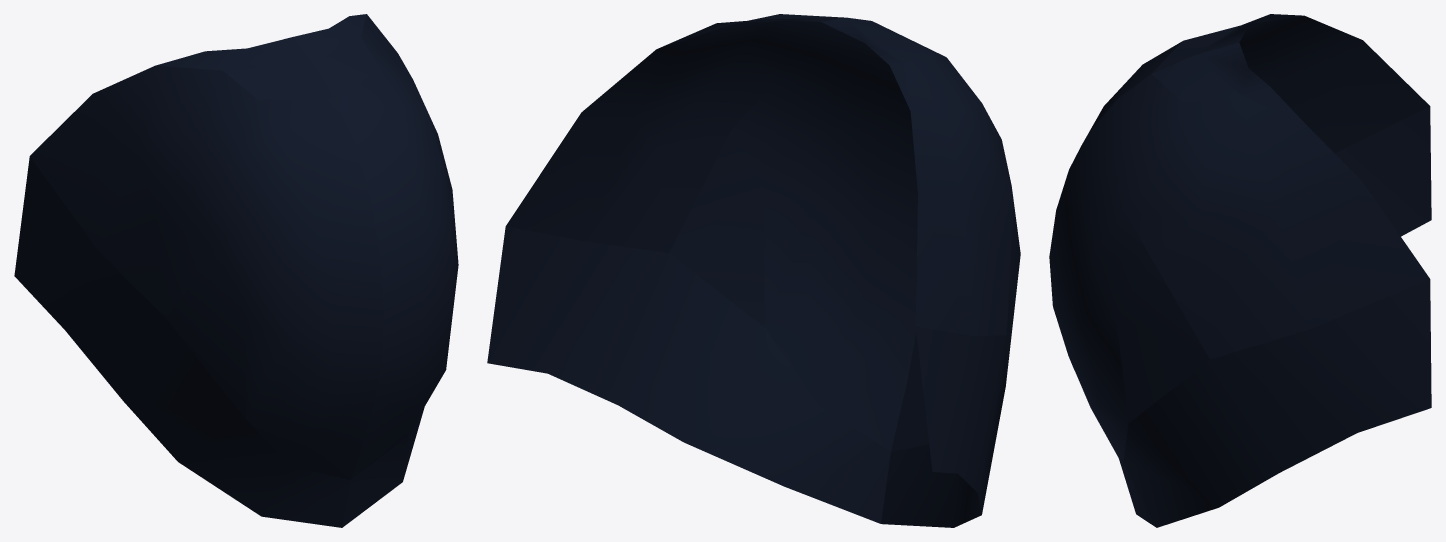
File: visor.fbx
3 renders of one model, left to right at view 1: azimuth 30°, elevation 25°; view 2: azimuth 150°, elevation 25°; view 3: azimuth 270°, elevation 25°, orthographic. The views are drawn at different scales.
Visible parts, largest first — view 1: Mesh_004; view 2: Mesh_004; view 3: Mesh_004.
Part boxes in pixels (bbox=[...]): Mesh_004: bbox=[14, 14, 458, 527]; Mesh_004: bbox=[487, 14, 1020, 527]; Mesh_004: bbox=[1049, 14, 1431, 527].
Bounding box in the file's own units: 20.08 × 23.52 × 17.27.
